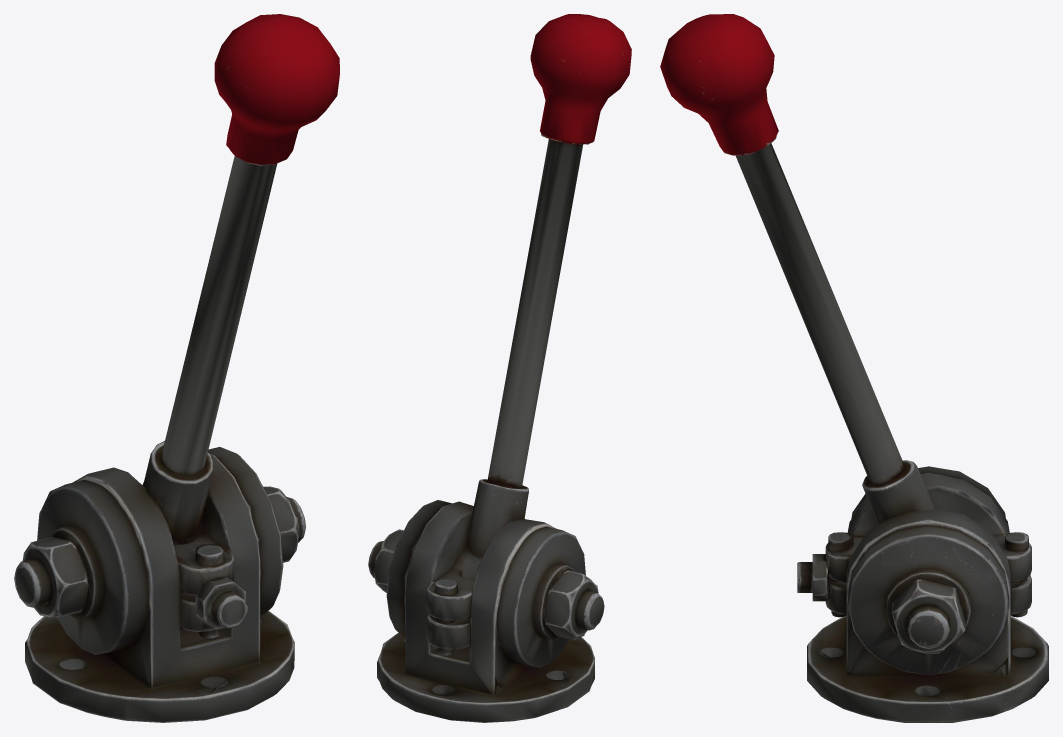
The model's file is ck_lever_knob_remesh.glb.
The picture shows the model from 3 angles, left to right: view 1: azimuth 30°, elevation 25°; view 2: azimuth 150°, elevation 25°; view 3: azimuth 270°, elevation 25°; orthographic projection. The views are drawn at different scales.
Visible parts, largest first — view 1: tripo_node_b9262e9d-b6ac-4443-9418-858e2; view 2: tripo_node_b9262e9d-b6ac-4443-9418-858e2; view 3: tripo_node_b9262e9d-b6ac-4443-9418-858e2.
Part boxes in pixels (x1,y1,x2,y2): tripo_node_b9262e9d-b6ac-4443-9418-858e2: (14,14,339,722); tripo_node_b9262e9d-b6ac-4443-9418-858e2: (368,14,631,722); tripo_node_b9262e9d-b6ac-4443-9418-858e2: (660,14,1048,722).
Bounding box in the file's own units: 0.3894 × 1 × 0.5382.
Materials: 1 (1 with a texture image).
